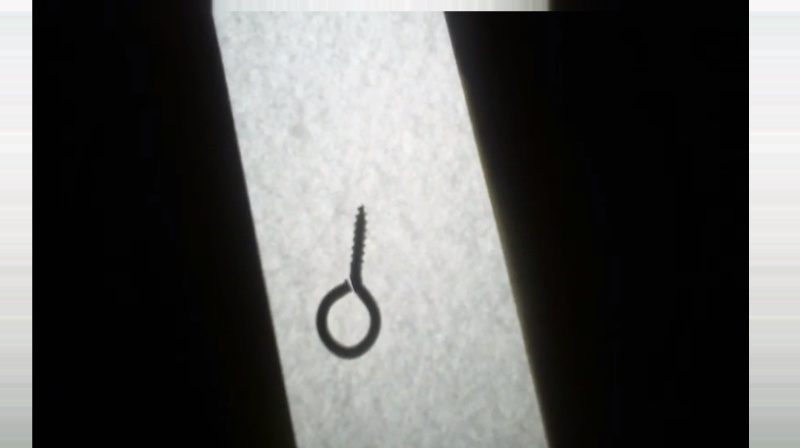O001: (312, 201, 384, 362)
